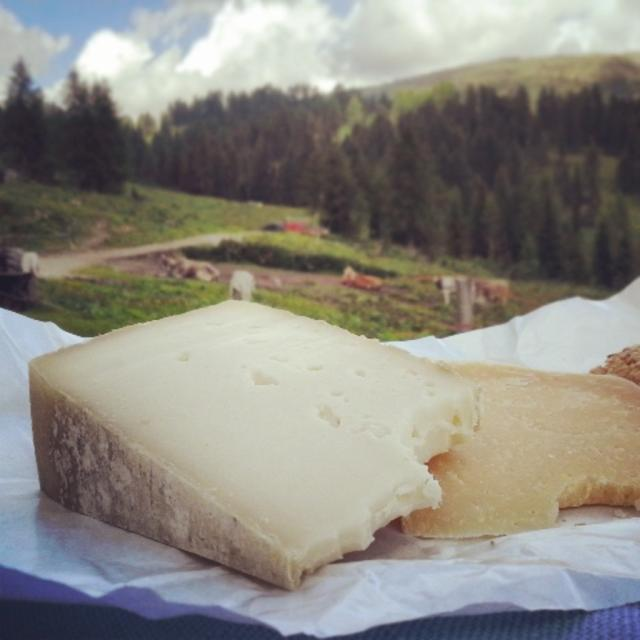Cheese: (26, 292, 490, 591), (398, 356, 638, 536)
